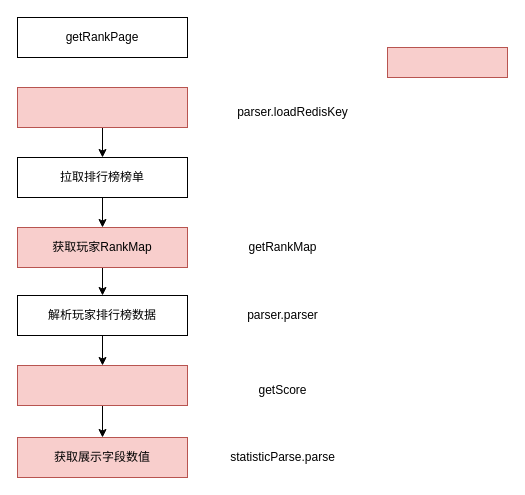
Some shapes in this 525 by 495 pixel diagram are drawn without their labels. The box of each missing label's shape, as (x1, y1, x2, y2) in pixels:
Parser获取加载的redisKey: (16, 86, 188, 128)
红色标注修改内容: (386, 46, 508, 78)
获取排行榜分数: (16, 364, 188, 406)
